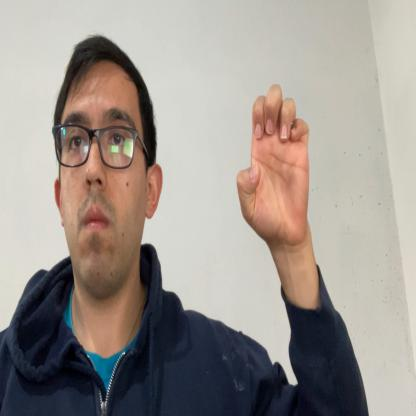E: (237, 84, 311, 253)
